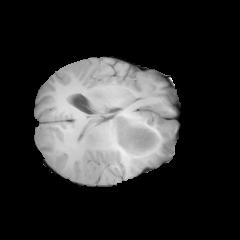glioma: (67, 107, 173, 155)
